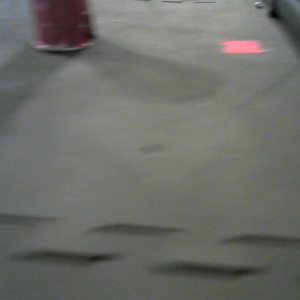Middle: (30, 1, 95, 52)
